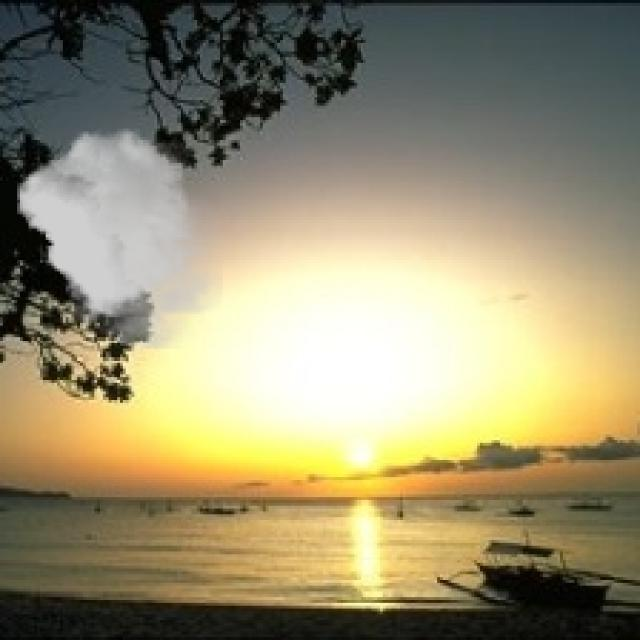Smoke: (17, 128, 223, 348)
